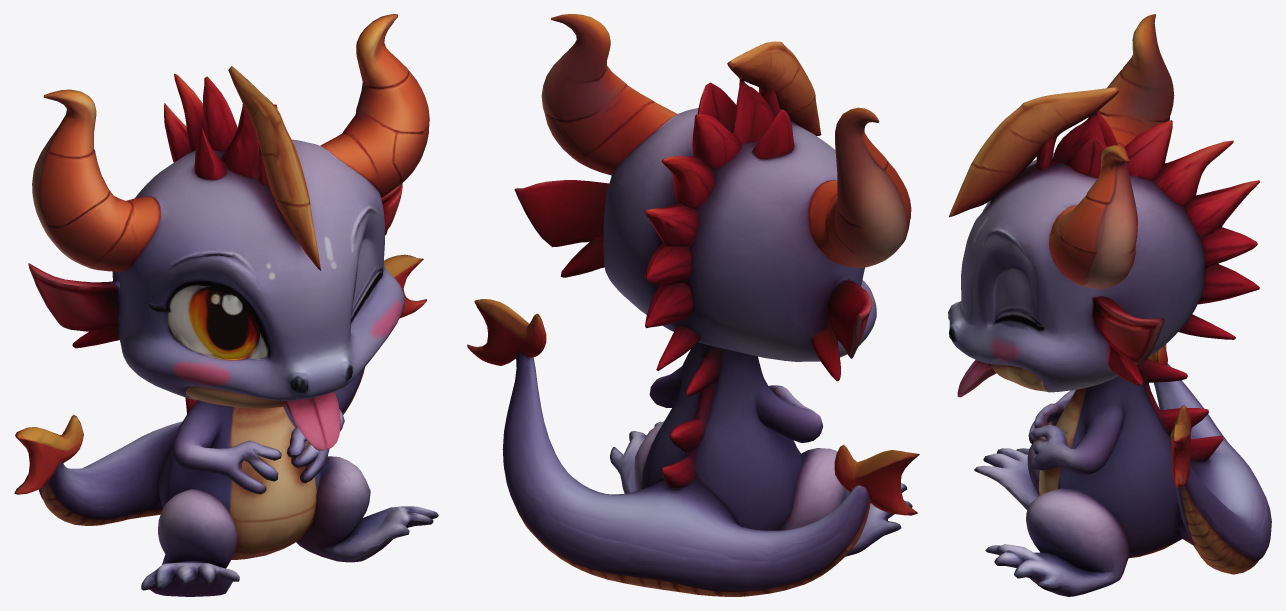
Rendered from cute_dragon_3d_model_glb.glb.
The picture shows the model from 3 angles, left to right: view 1: azimuth 30°, elevation 25°; view 2: azimuth 150°, elevation 25°; view 3: azimuth 270°, elevation 25°; orthographic projection. The views are drawn at different scales.
Visible parts, largest first — view 1: world_0; view 2: world_0; view 3: world_0.
Part boxes in pixels (box(x1,y1,x2,y2)): world_0: box(14, 14, 438, 596); world_0: box(467, 14, 919, 596); world_0: box(948, 14, 1271, 596).
Bounding box in the file's own units: 0.9018 × 0.9963 × 0.6273.
1 material, 1 textured.
